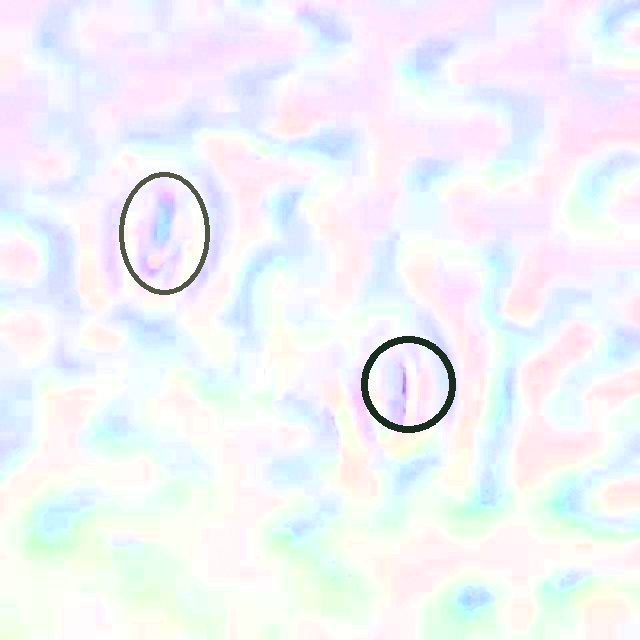close: (359, 335, 457, 433)
open: (119, 172, 210, 294)
